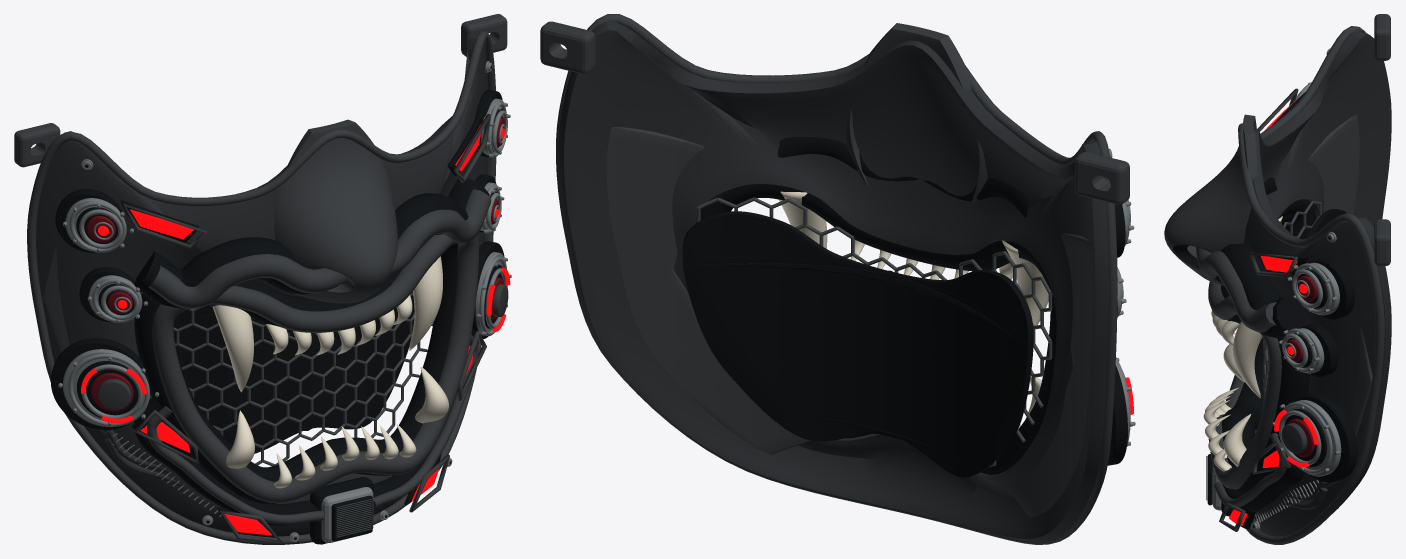
Rendered from mask-oni-04.glb.
The picture shows the model from 3 angles, left to right: view 1: azimuth 30°, elevation 25°; view 2: azimuth 150°, elevation 25°; view 3: azimuth 270°, elevation 25°; orthographic projection. The views are drawn at different scales.
Visible parts, largest first — view 1: Continuous sculpted face shell, Sculpted mouth rim, Dark mouth cavity back, Sculpted nose bridge and tip, Outer rolled armor edge, Mouth deep shadow gasket, Left Raised moustache ridge, Left Moustache undercut, Right Raised moustache ridge, Left Jaw armor crest, Left Jaw recess, Left Upper canine (+29 smaller); view 2: Continuous sculpted face shell, Dark mouth cavity back, Right Cheek layered armor, Outer rolled armor edge, Left Cheek layered armor, Mouth deep shadow gasket, Sculpted nose bridge and tip, Right Strap lug, Left Strap lug, Right Moustache undercut, Left Sensor 2 gasket, Left Upper canine (+2 smaller); view 3: Continuous sculpted face shell, Outer rolled armor edge, Sculpted nose bridge and tip, Mouth deep shadow gasket, Sculpted mouth rim, Left Cheek layered armor, Right Moustache undercut, Right Raised moustache ridge, Right Sensor 2 gasket, Right Upper canine, Right Cheek layered armor, Right Jaw recess (+29 smaller).
Part boxes in pixels (bbox=[...]): Continuous sculpted face shell: bbox=[36, 33, 488, 536]; Sculpted mouth rim: bbox=[152, 234, 478, 503]; Dark mouth cavity back: bbox=[173, 292, 414, 453]; Sculpted nose bridge and tip: bbox=[273, 119, 397, 303]; Outer rolled armor edge: bbox=[27, 31, 496, 544]; Mouth deep shadow gasket: bbox=[134, 235, 457, 503]; Left Raised moustache ridge: bbox=[148, 254, 347, 308]; Left Moustache undercut: bbox=[135, 237, 323, 309]; Right Raised moustache ridge: bbox=[389, 189, 491, 275]; Left Jaw armor crest: bbox=[146, 406, 324, 524]; Left Jaw recess: bbox=[134, 398, 319, 525]; Left Upper canine: bbox=[212, 305, 253, 392]; Continuous sculpted face shell: bbox=[558, 22, 1108, 541]; Dark mouth cavity back: bbox=[682, 211, 1033, 477]; Right Cheek layered armor: bbox=[606, 127, 811, 454]; Outer rolled armor edge: bbox=[556, 14, 1117, 544]; Left Cheek layered armor: bbox=[1005, 233, 1092, 517]; Mouth deep shadow gasket: bbox=[696, 184, 1056, 474]; Sculpted nose bridge and tip: bbox=[846, 23, 987, 212]; Right Strap lug: bbox=[540, 21, 595, 74]; Left Strap lug: bbox=[1075, 152, 1129, 204]; Right Moustache undercut: bbox=[777, 136, 918, 181]; Left Sensor 2 gasket: bbox=[1107, 365, 1127, 465]; Left Upper canine: bbox=[1002, 240, 1048, 325]; Continuous sculpted face shell: bbox=[1243, 30, 1391, 536]; Outer rolled armor edge: bbox=[1238, 26, 1384, 544]; Sculpted nose bridge and tip: bbox=[1164, 114, 1257, 285]; Mouth deep shadow gasket: bbox=[1221, 199, 1315, 494]; Sculpted mouth rim: bbox=[1208, 220, 1281, 489]; Left Cheek layered armor: bbox=[1308, 114, 1359, 214]; Right Moustache undercut: bbox=[1214, 243, 1307, 338]; Right Raised moustache ridge: bbox=[1195, 247, 1276, 332]; Right Sensor 2 gasket: bbox=[1293, 393, 1357, 482]; Right Upper canine: bbox=[1232, 321, 1262, 398]; Right Cheek layered armor: bbox=[1326, 327, 1372, 487]; Right Jaw recess: bbox=[1222, 435, 1304, 511].
Size of the model in its own units: 2.54 by 2.05 by 1.09.
